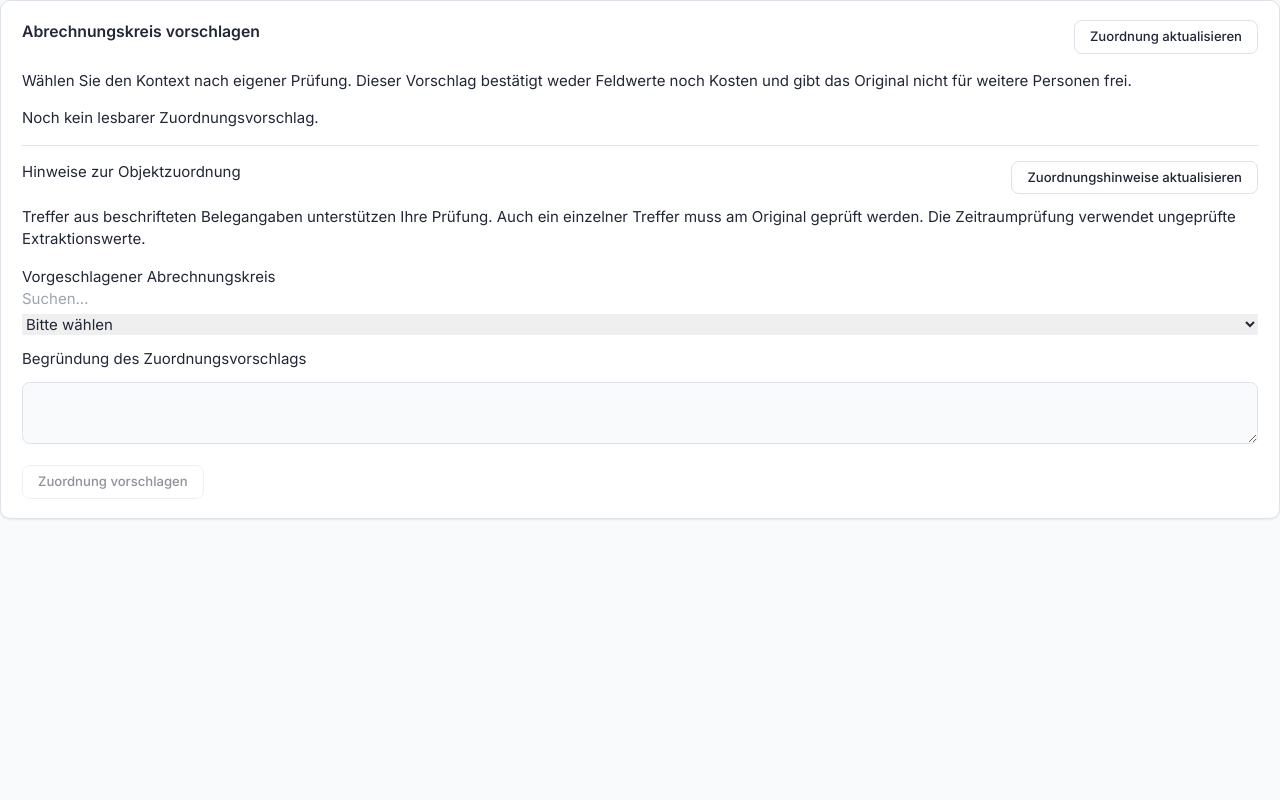
it: submits manual context against exact evidence and shows its unresolved blocker
Select "Objekt Nord · WEG" in the dropdown named "Vorgeschlagener Abrechnungskreis" at (640, 325), box [22, 314, 1258, 335]
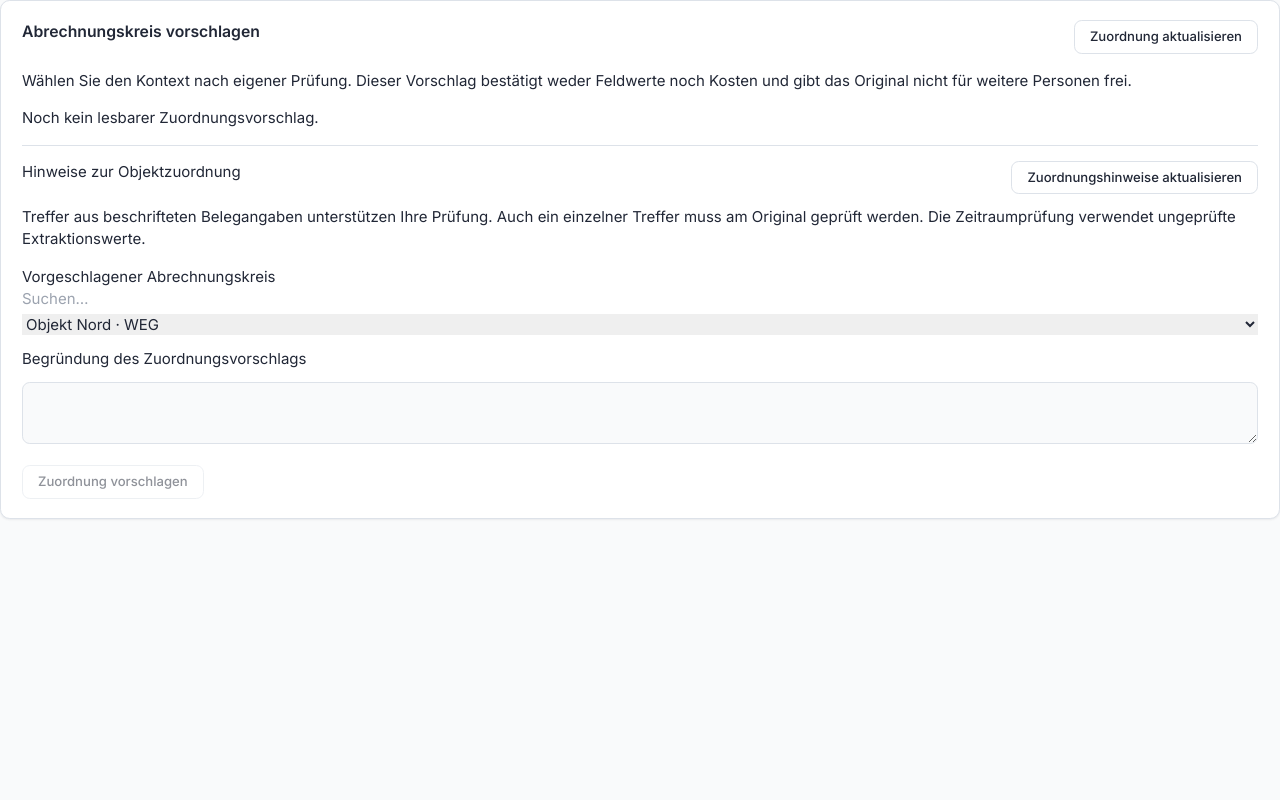
Type "Original manuell gesichtet" into the text box labelled "Begründung des Zuordnungsvorschlags" at (640, 413), box [22, 382, 1258, 444]
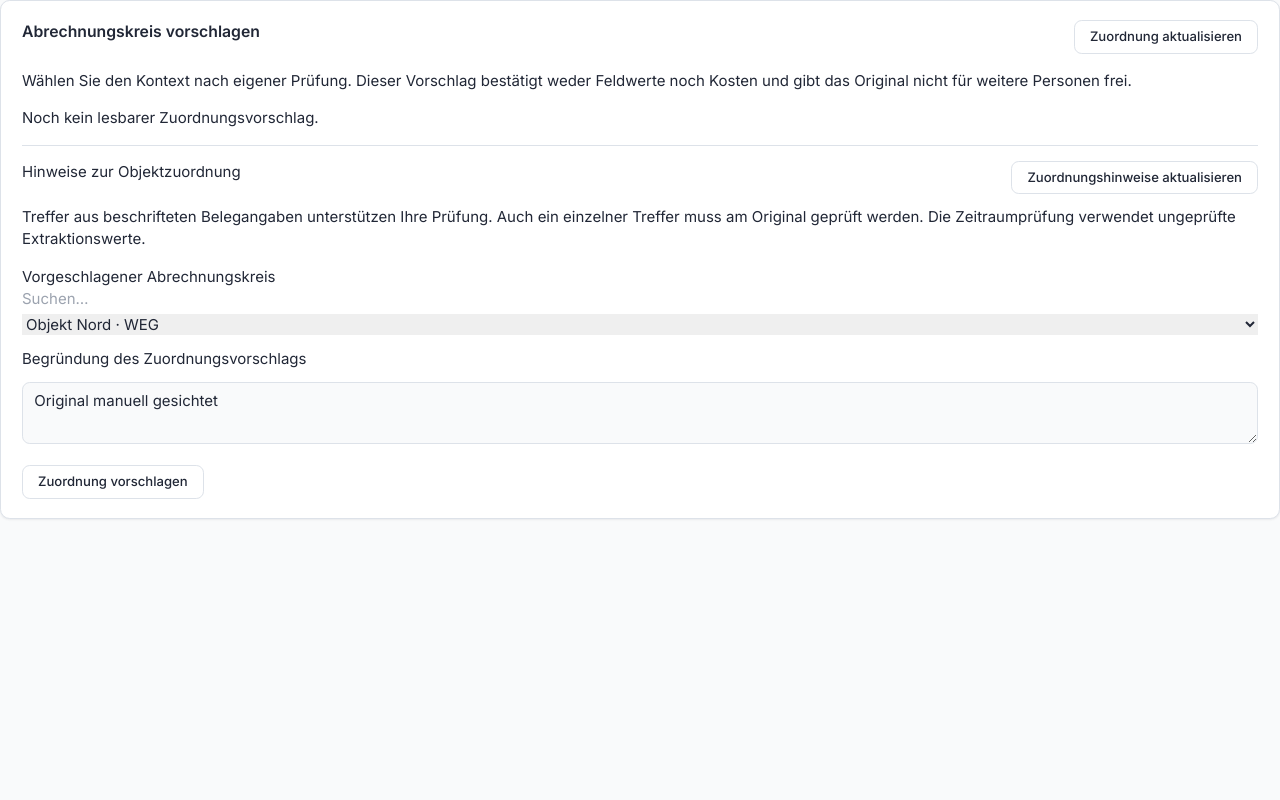
Click the button "Zuordnung vorschlagen" at (113, 482), box [22, 465, 204, 499]
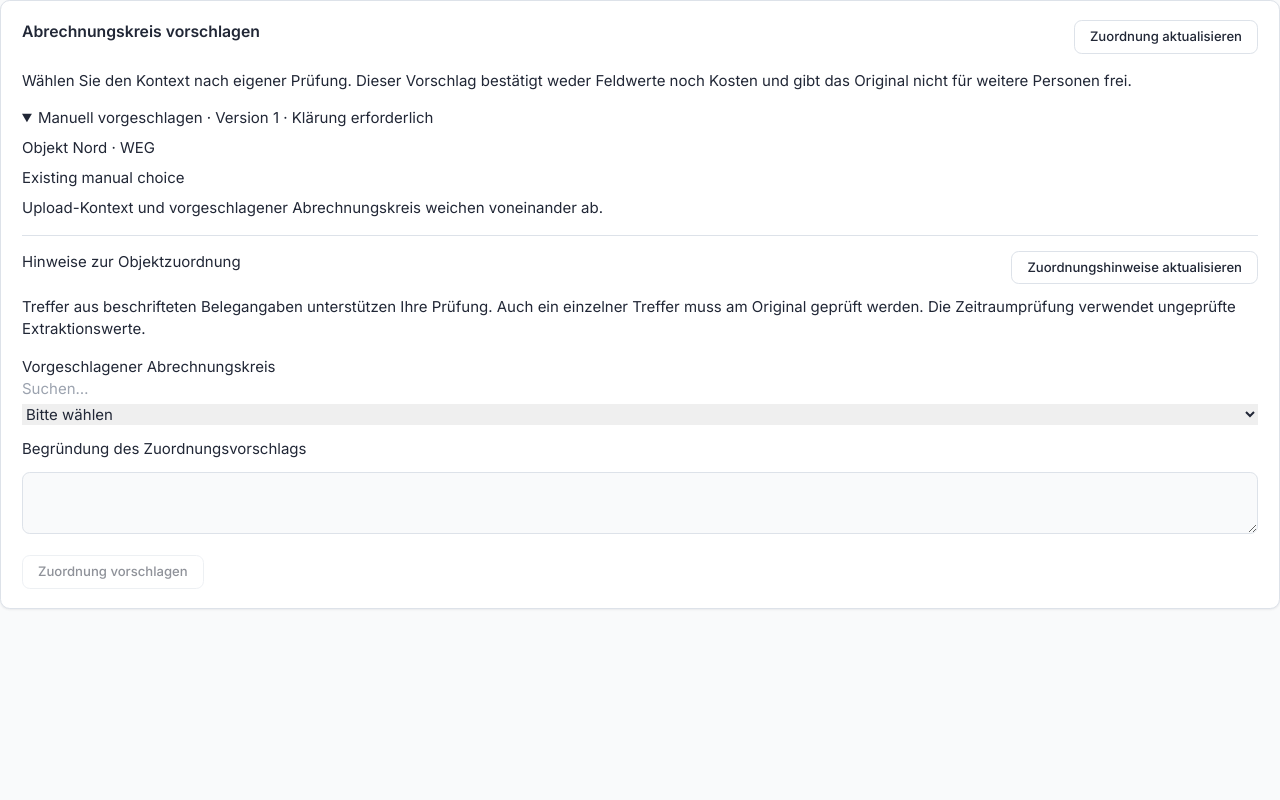
Expected: the text "Upload-Kontext und vorgeschlagener Abrechnungskreis weichen voneinander ab." is shown, [22, 198, 603, 217]
Expected: the text "Objekt Nord · WEG" is shown, [22, 138, 155, 157]
